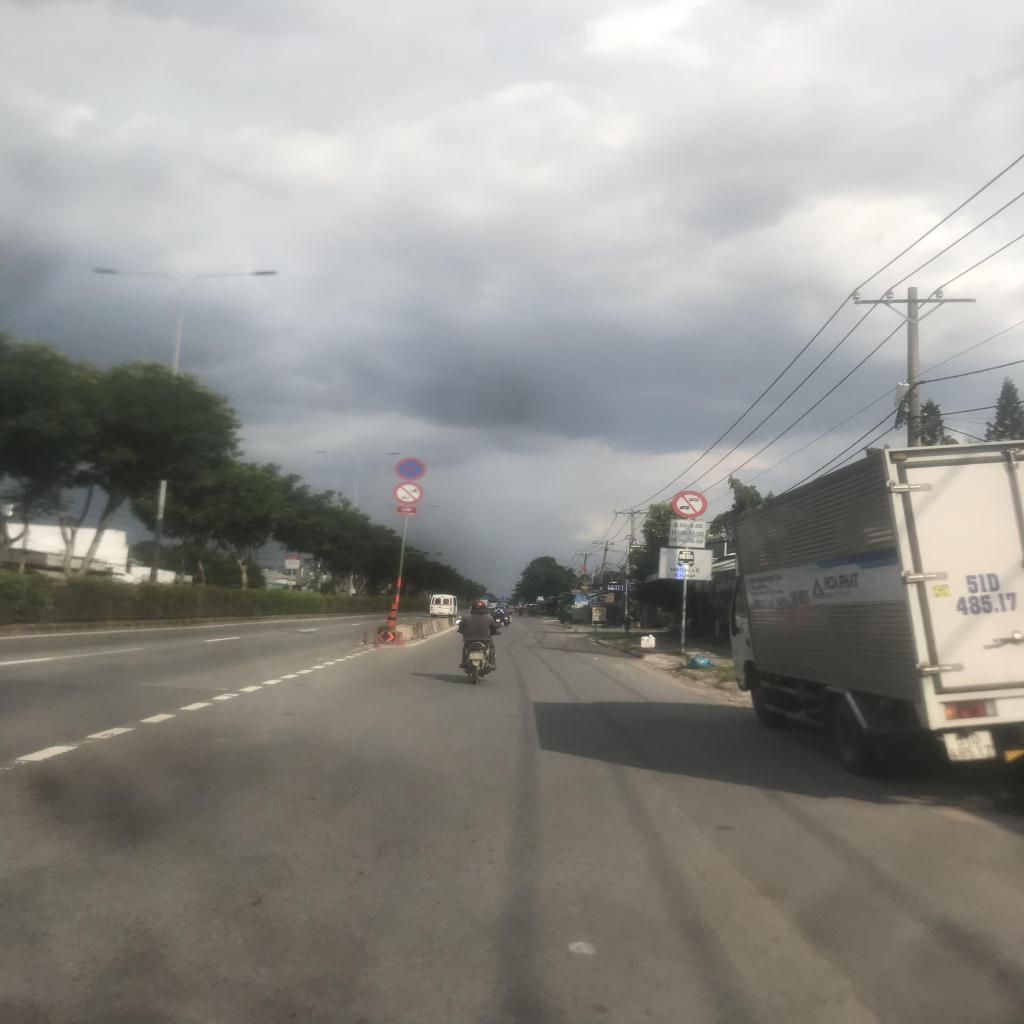cam_dung_xe_va_do_xe: (396, 457, 427, 481)
cam_o_to_tai_va_xe_khach: (672, 490, 708, 518)
cam_xe_2_banh_va_xe_3_banh_co_dong_co: (393, 482, 424, 504)
khac: (659, 548, 712, 580), (668, 519, 706, 548)
